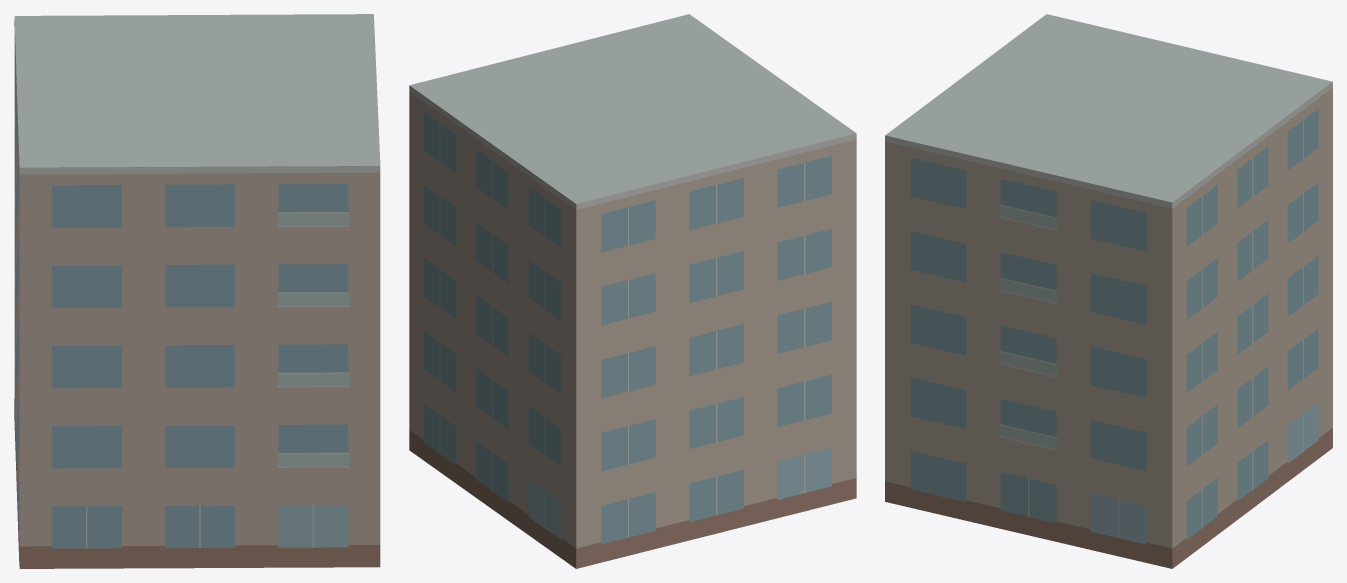
The model's file is survey-upis-32960567.glb.
The picture shows the model from 3 angles, left to right: view 1: azimuth 30°, elevation 25°; view 2: azimuth 150°, elevation 25°; view 3: azimuth 270°, elevation 25°; orthographic projection. The views are drawn at different scales.
Parts seen in each view (by area): view 1: survey-upis-32960567.tmp; view 2: survey-upis-32960567.tmp; view 3: survey-upis-32960567.tmp.
Boxes of the visible parts, x1,y1,x2,y2 form: survey-upis-32960567.tmp: [14, 14, 380, 568]; survey-upis-32960567.tmp: [409, 14, 856, 568]; survey-upis-32960567.tmp: [885, 14, 1332, 568].
Size of the model in its own units: 16.34 by 14.8 by 16.4.
